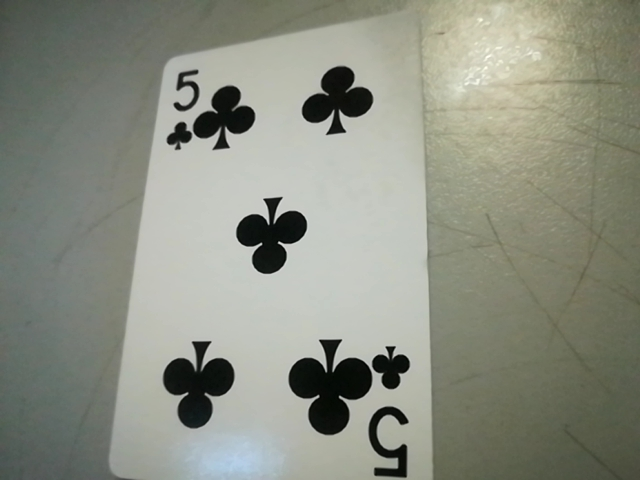mh 5: (369, 340, 424, 480)
